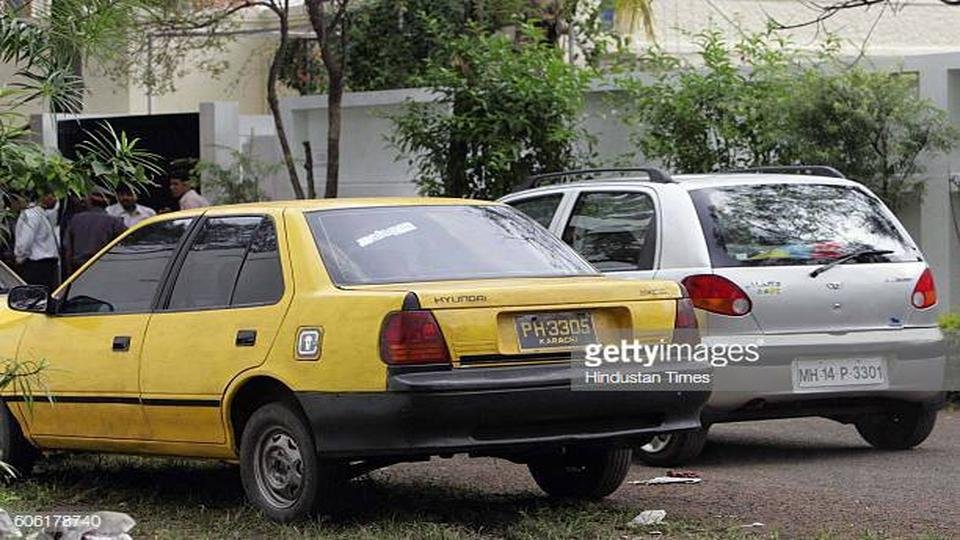NumberPlate: (505, 304, 618, 357), (788, 356, 893, 386)
